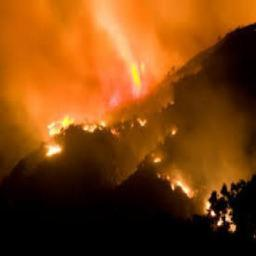Heavy smoke: (0, 1, 249, 196)
Large fire: (39, 61, 248, 236)
